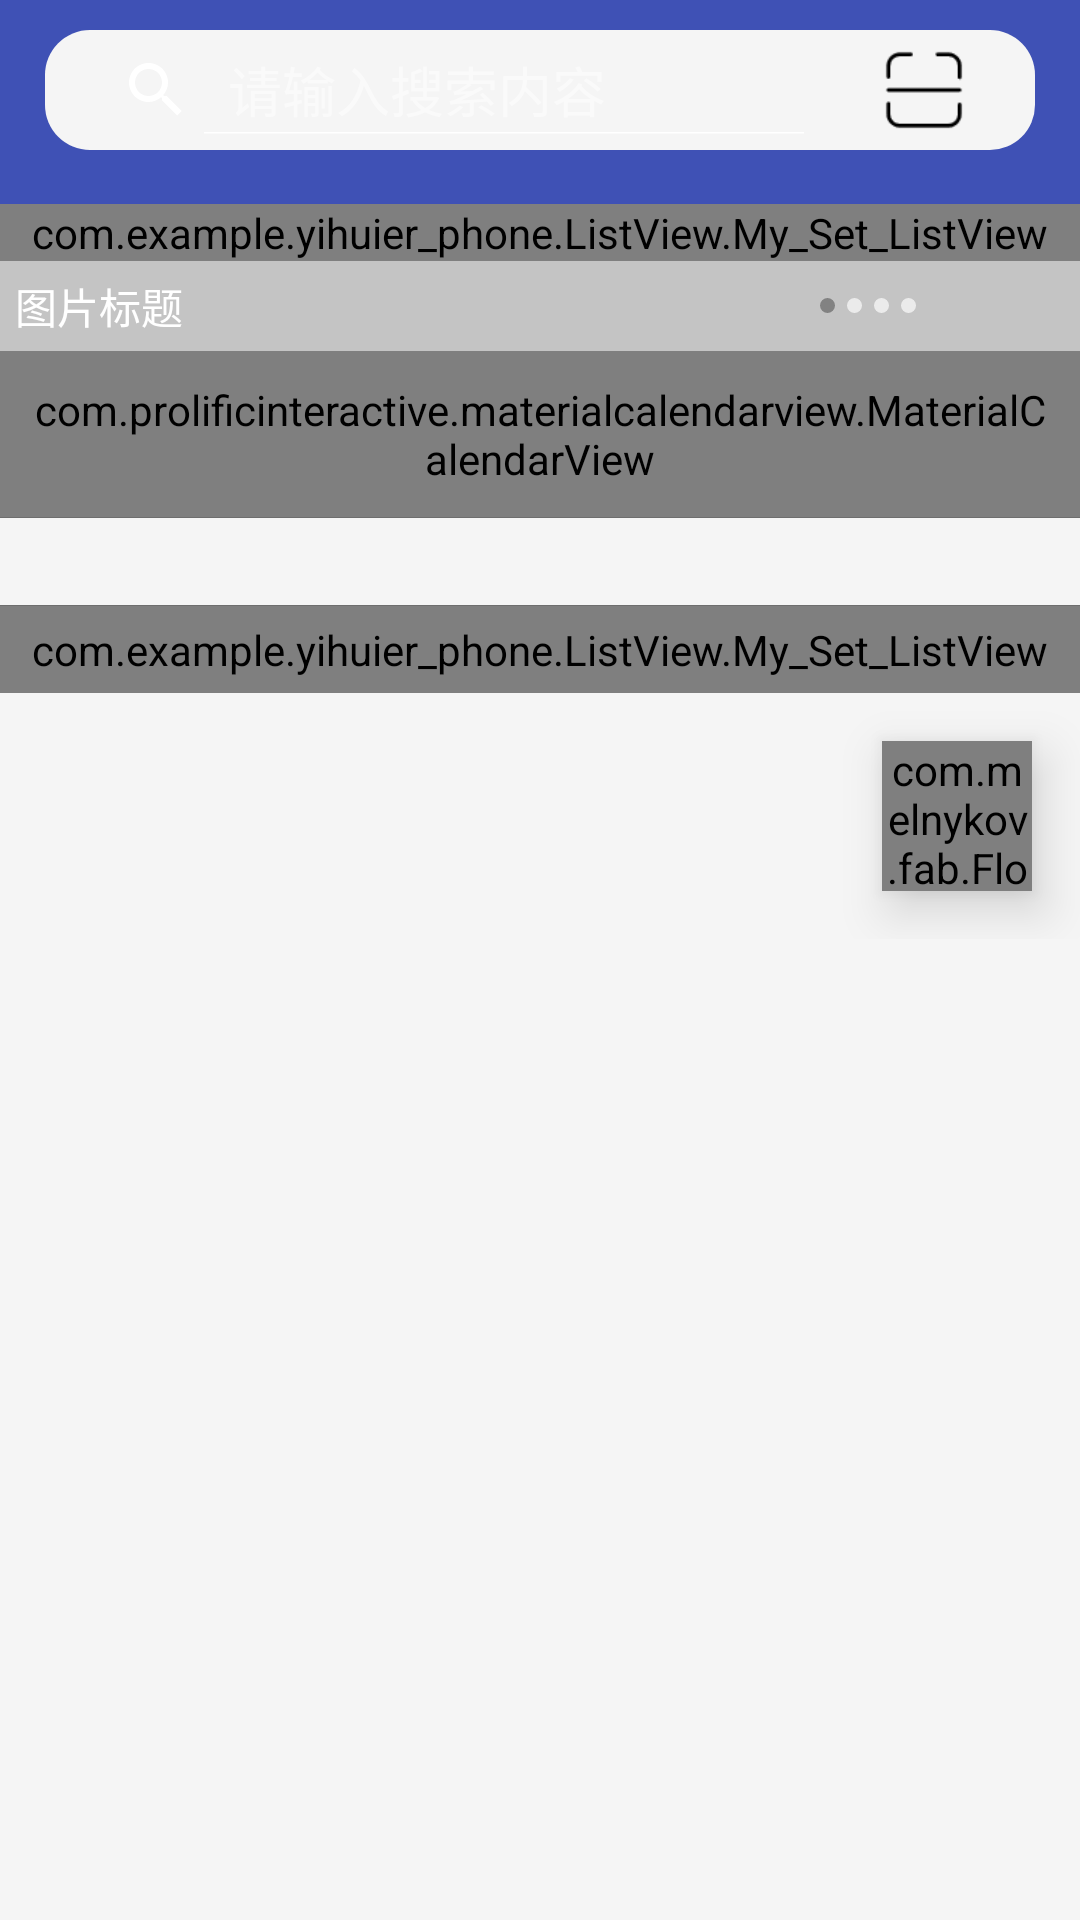

Point at icon controls on the screen. Image size 1080*1920, points as (x=x, y=y).
sao: (x=924, y=90)
